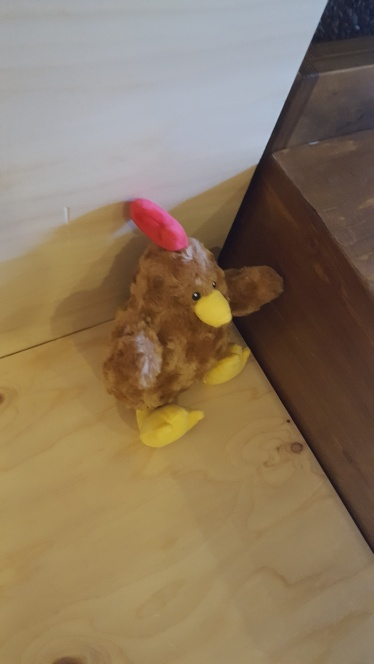chicken_front: (103, 195, 279, 447)
